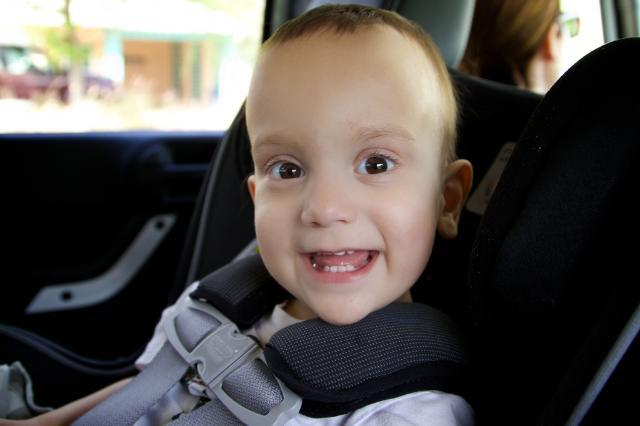SafeDriving: (253, 144, 320, 192), (346, 136, 408, 186)
Seatbelt: (66, 248, 492, 426)
